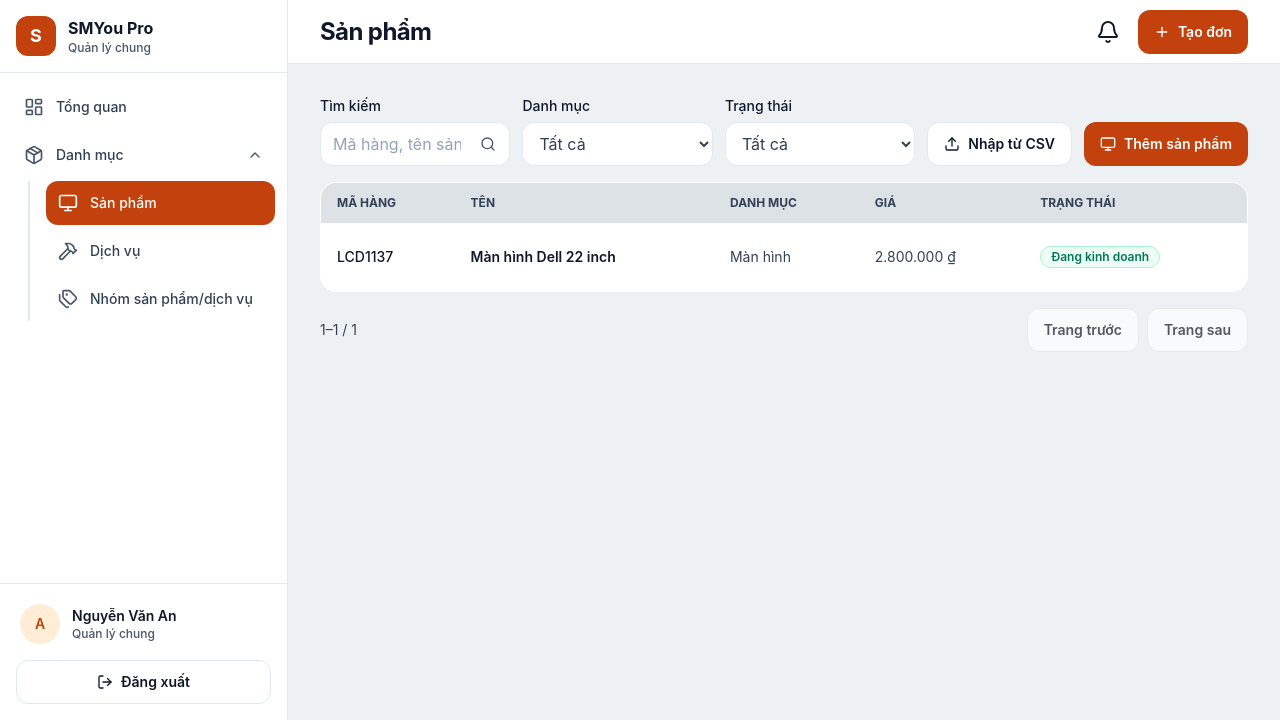
Test: AC-CAT-014 sửa sản phẩm › 409 STALE_VERSION → thông báo + nút Tải lại
The image size is (1280, 720).
Click the button "Màn hình Dell 22 inch": (543, 257) [471,235,616,279]
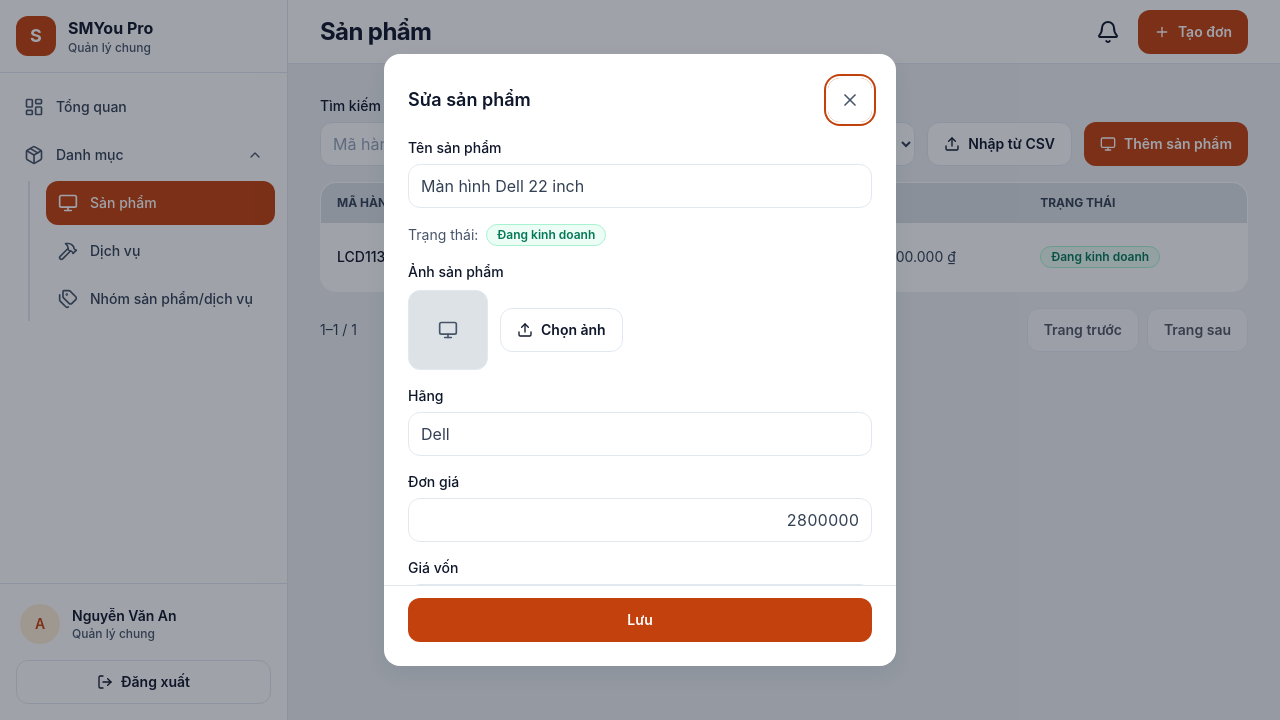
In the field labelled "Tên sản phẩm": (640, 186) [408,164,872,208], type "!"
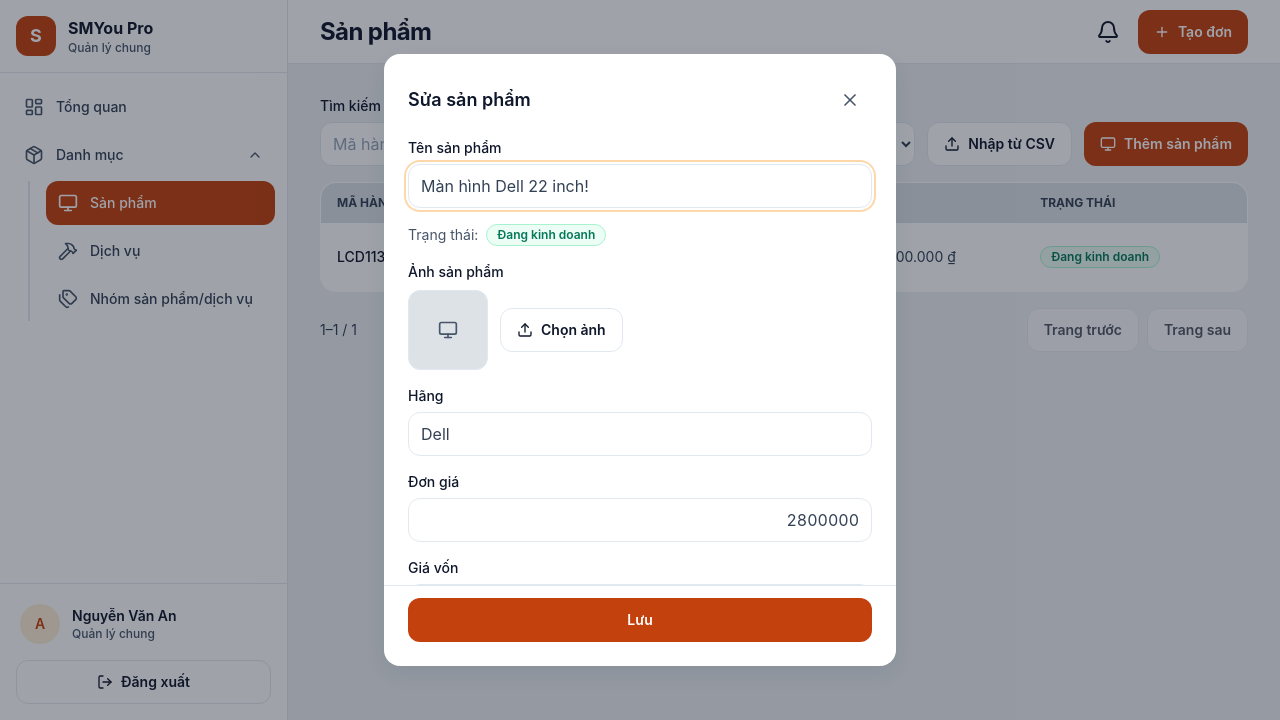
Click the button "Lưu": (640, 620) [408,598,872,642]
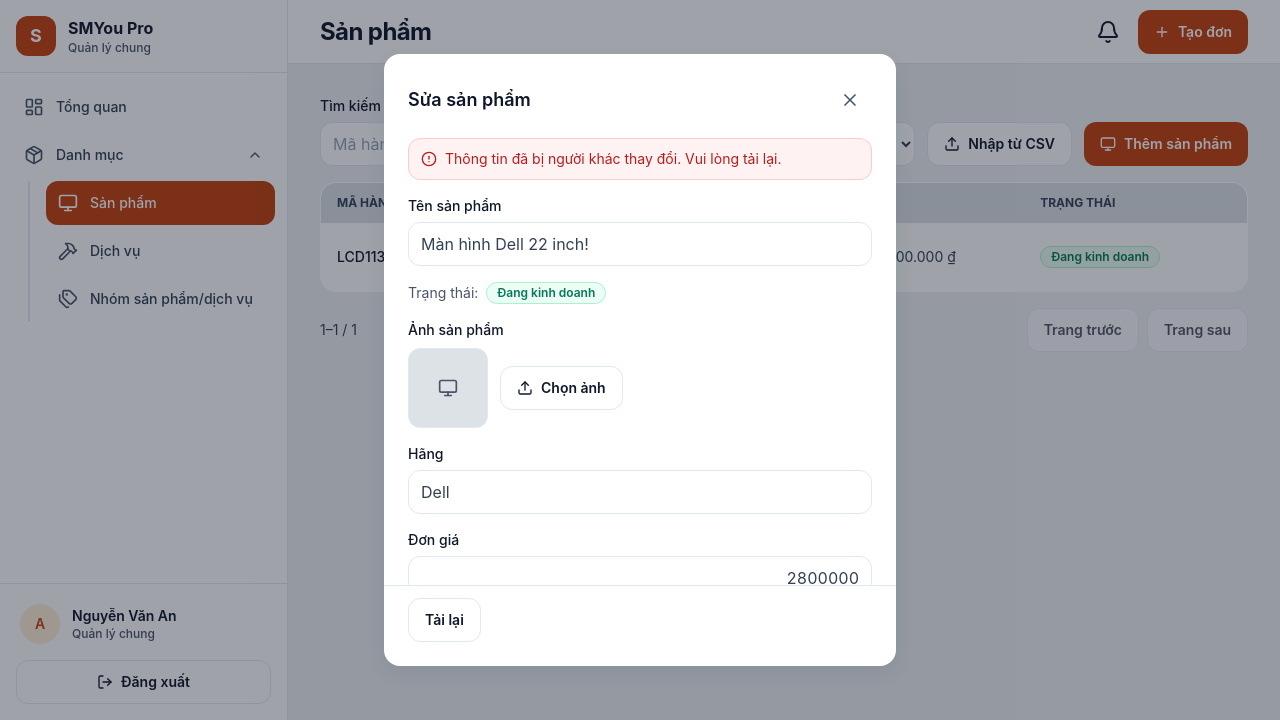
Check: the text "Thông tin đã bị người khác thay đổi. Vui lòng tải lại." is shown, box [445,149,782,169]
Check: the button "Tải lại" is shown, box [408,598,481,642]
